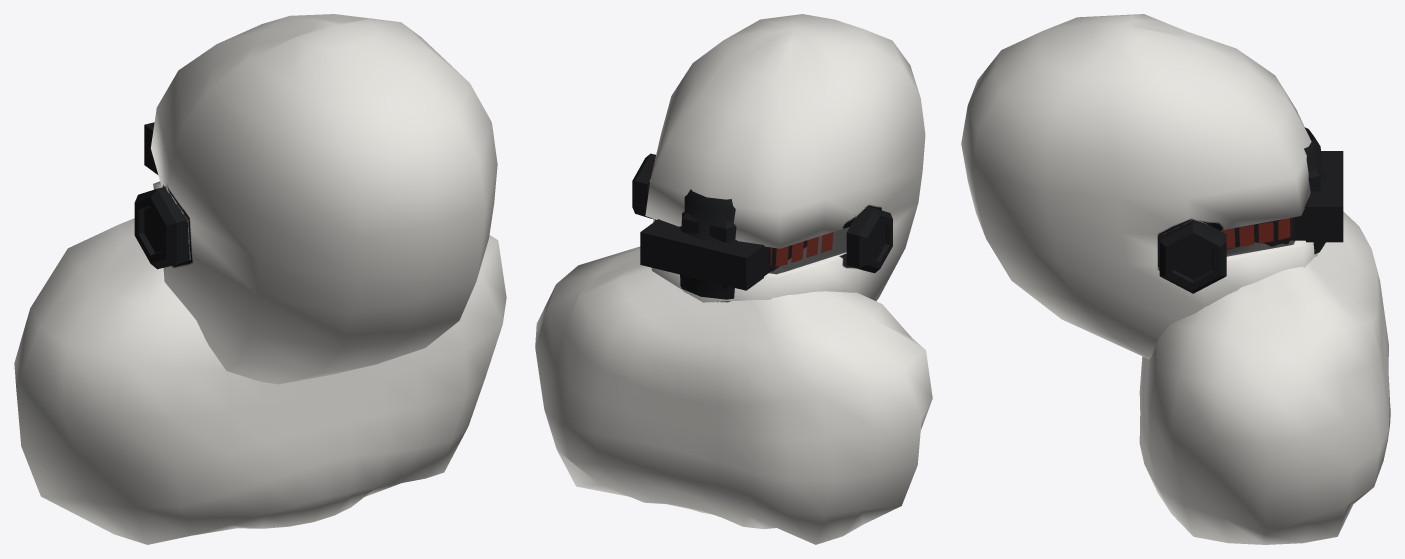
File: robot.glb
3 renders of one model, left to right at view 1: azimuth 30°, elevation 25°; view 2: azimuth 150°, elevation 25°; view 3: azimuth 270°, elevation 25°, orthographic. The views are drawn at different scales.
Visible parts, largest first — view 1: Helmet, Bust; view 2: Bust, Helmet, Palm, Visor_x, Cuff, Scanner_x; view 3: Helmet, Bust, Palm, Visor_x, Scanner_x.
Part boxes in pixels (bbox=[...]): Helmet: bbox=[134, 14, 497, 384]; Bust: bbox=[14, 218, 506, 544]; Bust: bbox=[535, 189, 932, 544]; Helmet: bbox=[632, 14, 925, 302]; Palm: bbox=[640, 219, 806, 290]; Visor_x: bbox=[654, 219, 849, 274]; Cuff: bbox=[681, 211, 736, 289]; Scanner_x: bbox=[770, 232, 832, 266]; Helmet: bbox=[961, 14, 1318, 359]; Bust: bbox=[1139, 127, 1390, 544]; Palm: bbox=[1235, 151, 1343, 242]; Visor_x: bbox=[1220, 217, 1295, 256]; Scanner_x: bbox=[1221, 218, 1289, 248].
Size of the model in its own units: 0.2971 by 0.3058 by 0.2653.
3 materials, 1 textured.
